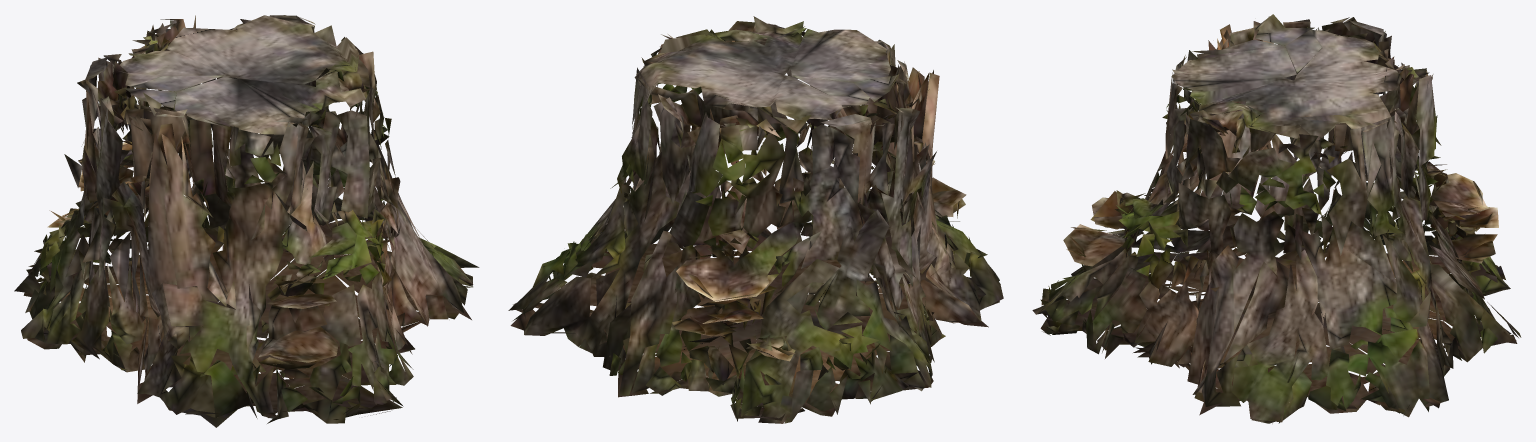
File: wald_baumstumpf.glb
The picture shows the model from 3 angles, left to right: view 1: azimuth 30°, elevation 25°; view 2: azimuth 150°, elevation 25°; view 3: azimuth 270°, elevation 25°; orthographic projection. The views are drawn at different scales.
Visible parts, largest first — view 1: Prop; view 2: Prop; view 3: Prop.
Part boxes in pixels (bbox=[...]): Prop: bbox=[14, 15, 479, 427]; Prop: bbox=[508, 16, 1003, 423]; Prop: bbox=[1032, 14, 1521, 423].
Size of the model in its own units: 1.68 by 1.09 by 1.78.
Materials: 1 (1 with a texture image).
